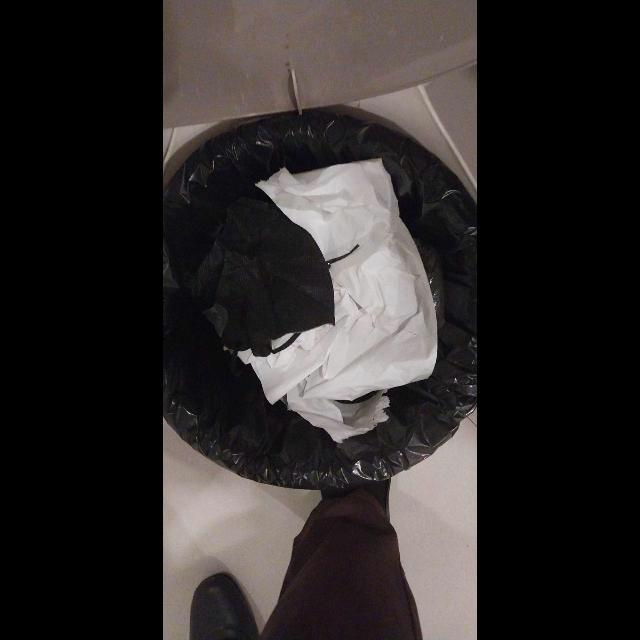paper: (237, 158, 438, 405), (286, 392, 390, 443)
